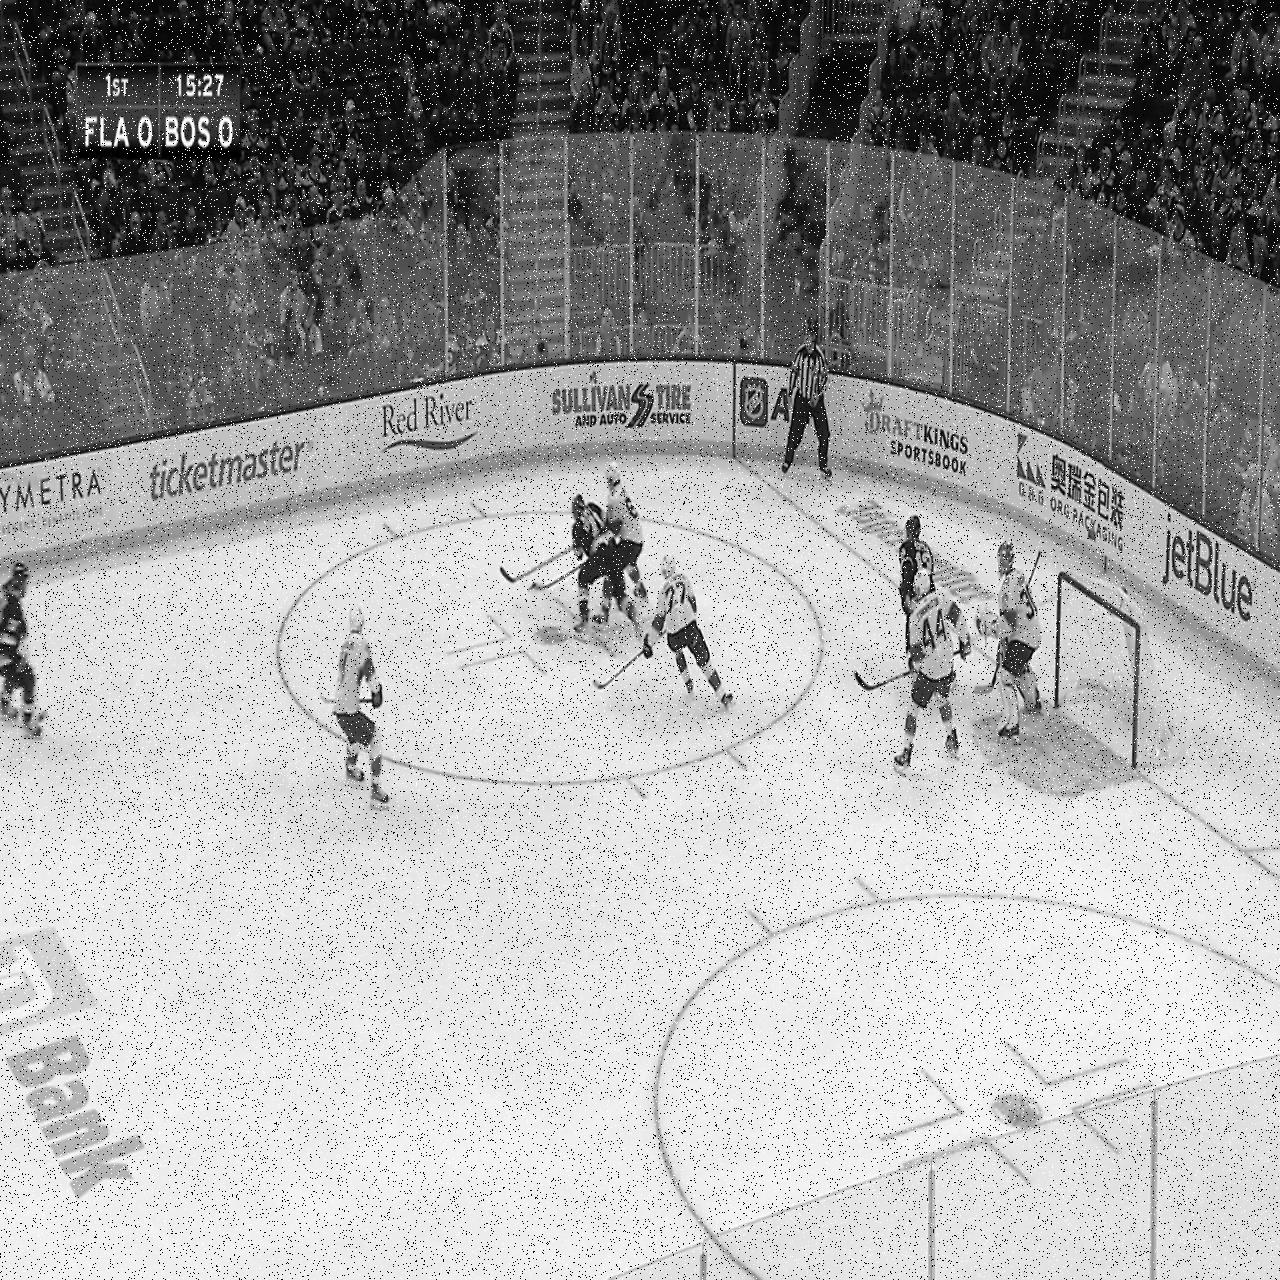Ad: (4, 911, 159, 1208), (836, 490, 995, 619), (1016, 422, 1125, 560), (1163, 501, 1259, 648), (860, 383, 973, 489), (145, 438, 319, 502), (549, 361, 690, 438), (0, 465, 113, 533), (375, 382, 479, 455), (737, 362, 792, 431)
